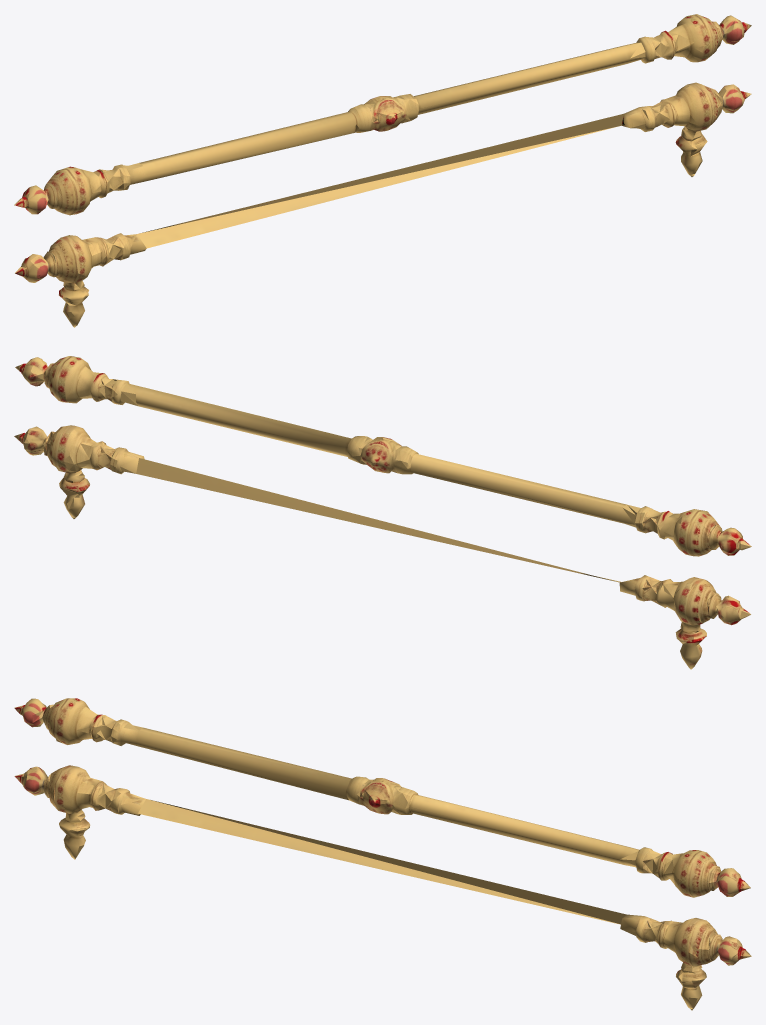
Rendered from Tringle.fbx.
The picture shows the model from 3 angles, top to bottom: view 1: azimuth 30°, elevation 25°; view 2: azimuth 150°, elevation 25°; view 3: azimuth 330°, elevation 25°; orthographic projection.
Visible parts, largest first — view 1: output_unwrapped; view 2: output_unwrapped; view 3: output_unwrapped.
Boxes of the visible parts, x1=… form: output_unwrapped: x1=14, y1=14, x2=751, y2=327; output_unwrapped: x1=14, y1=356, x2=751, y2=669; output_unwrapped: x1=14, y1=698, x2=751, y2=1010.
Size of the model in its own units: 190 by 39.42 by 10.85.
1 material, 1 textured.
